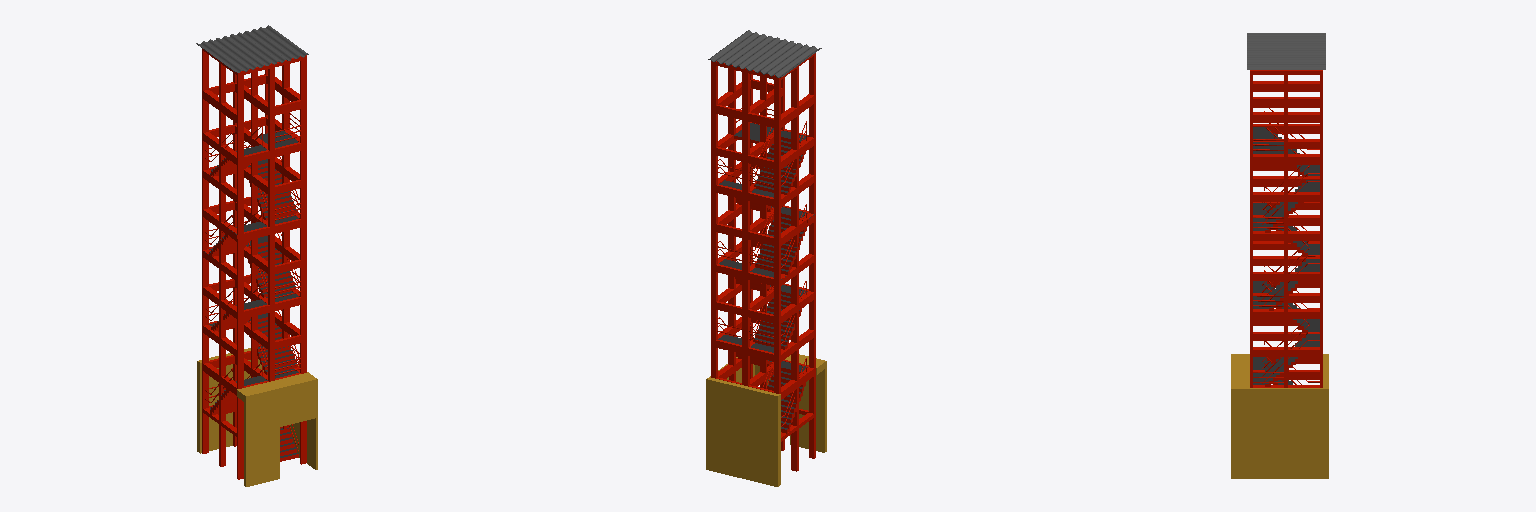
File: escalera_emergencia.obj
The picture shows the model from 3 angles: view 1: azimuth 30°, elevation 25°; view 2: azimuth 150°, elevation 25°; view 3: azimuth 270°, elevation 25°; orthographic projection.
Parts seen in each view (by area): view 1: Cube_Cube.032, ETRADA_ESCA_Cube.026, Suspended_WalkWay.003, Suspended_WalkWay.002, Suspended_WalkWay.001, Suspended_WalkWay; view 2: Cube_Cube.032, ETRADA_ESCA_Cube.026, Suspended_WalkWay.003, Suspended_WalkWay.002, Suspended_WalkWay.001, Suspended_WalkWay; view 3: Cube_Cube.032, ETRADA_ESCA_Cube.026, Suspended_WalkWay.003, Suspended_WalkWay.002, Suspended_WalkWay.001.
Part boxes in pixels (x1,y1,x2,y2): Cube_Cube.032: (196, 25, 308, 479); ETRADA_ESCA_Cube.026: (197, 348, 317, 486); Suspended_WalkWay.003: (210, 130, 297, 220); Suspended_WalkWay.002: (202, 214, 298, 297); Suspended_WalkWay.001: (209, 292, 298, 374); Suspended_WalkWay: (210, 369, 298, 461); Cube_Cube.032: (708, 30, 821, 471); ETRADA_ESCA_Cube.026: (706, 354, 826, 486); Suspended_WalkWay.003: (719, 123, 807, 211); Suspended_WalkWay.002: (719, 206, 815, 290); Suspended_WalkWay.001: (718, 285, 807, 365); Suspended_WalkWay: (750, 361, 807, 433); Cube_Cube.032: (1247, 33, 1325, 387); ETRADA_ESCA_Cube.026: (1231, 354, 1328, 478); Suspended_WalkWay.003: (1253, 127, 1319, 232); Suspended_WalkWay.002: (1253, 203, 1319, 310); Suspended_WalkWay.001: (1253, 281, 1319, 386).
Size of the model in its own units: 5.57 by 29.37 by 6.32.